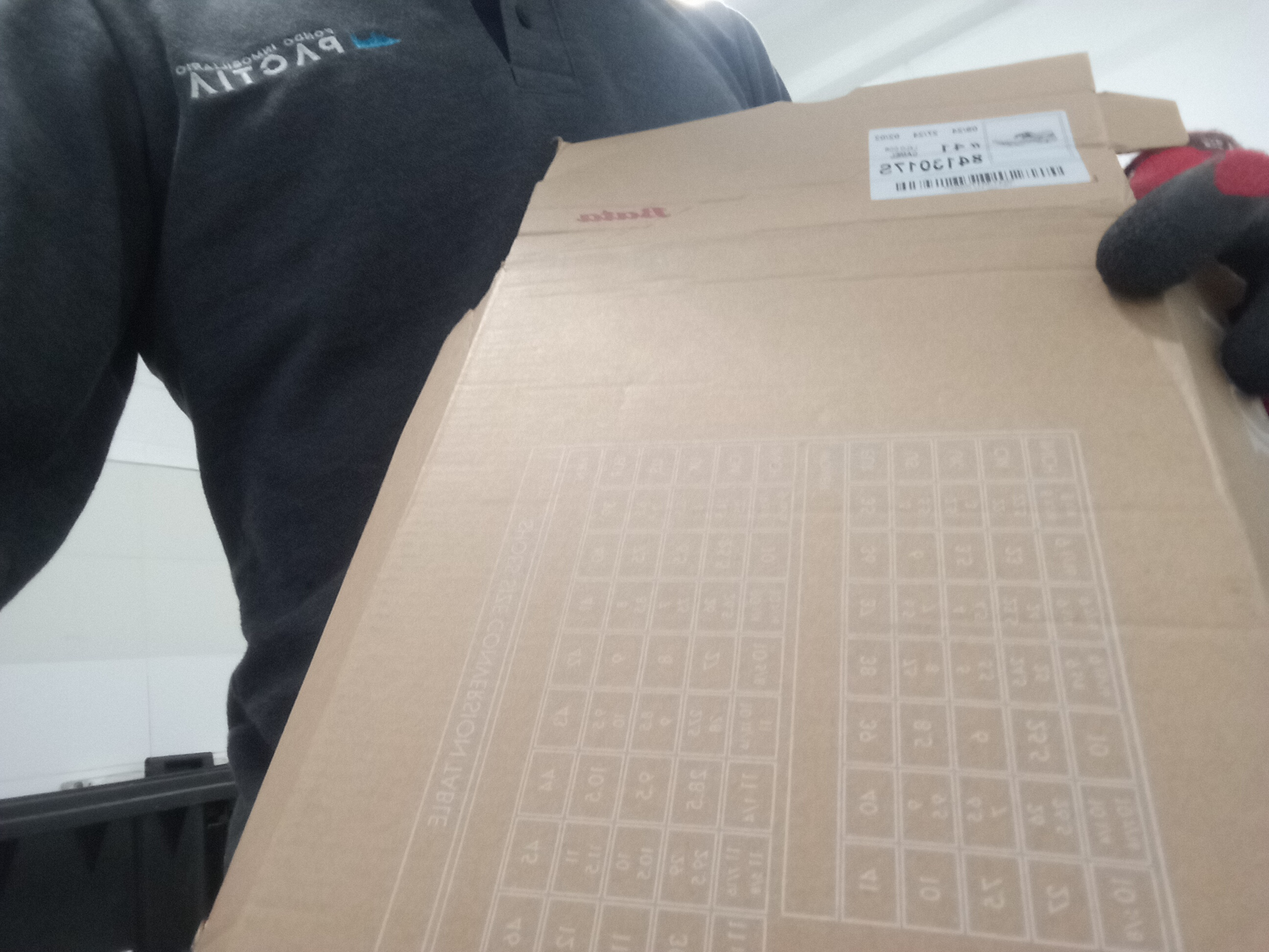Carton: (191, 49, 1269, 952)
